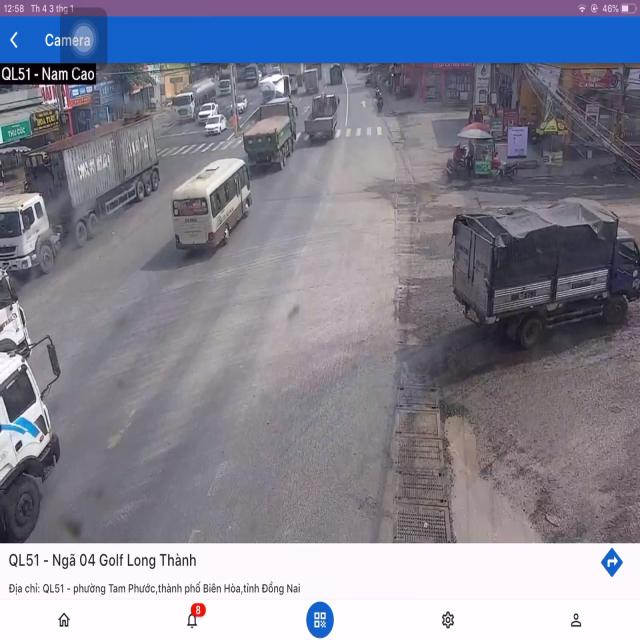bus: (170, 159, 252, 257)
truck: (453, 211, 640, 356), (0, 118, 156, 281), (0, 343, 63, 540), (246, 101, 297, 170), (304, 93, 340, 141)
